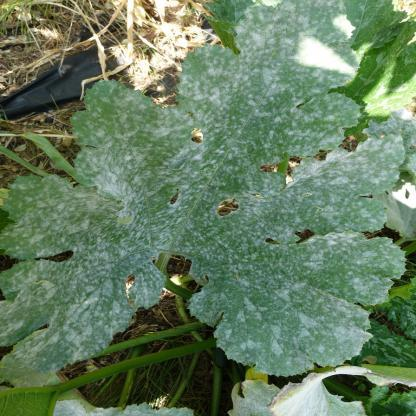Squash Powdery mildew leaf: (5, 0, 410, 390)
